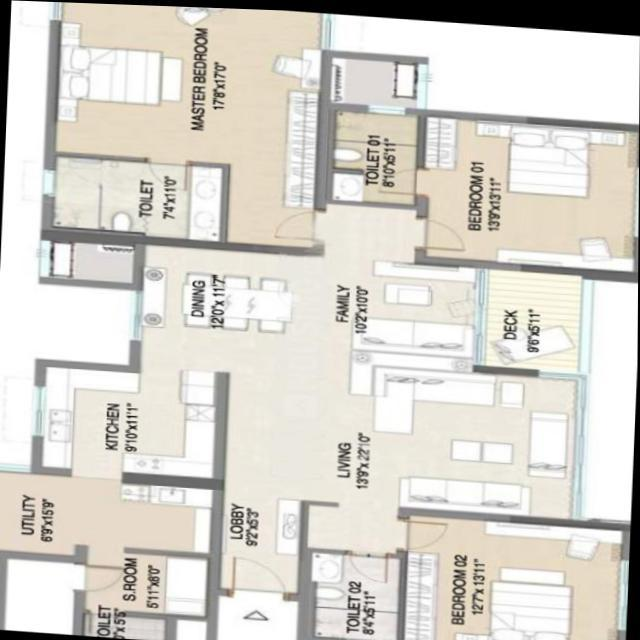Bedroom: (400, 508, 625, 640), (84, 548, 208, 614)
Bedroom with Toilet: (52, 2, 323, 245), (323, 103, 639, 269)
Dining: (182, 267, 298, 334)
Enterance-Foyer: (219, 491, 303, 598)
Kitchen: (41, 363, 217, 476)
Living: (346, 360, 575, 511)
Toilet: (53, 154, 221, 236), (310, 546, 400, 639), (332, 106, 416, 201), (84, 613, 165, 640)
Utility: (0, 470, 215, 554)
